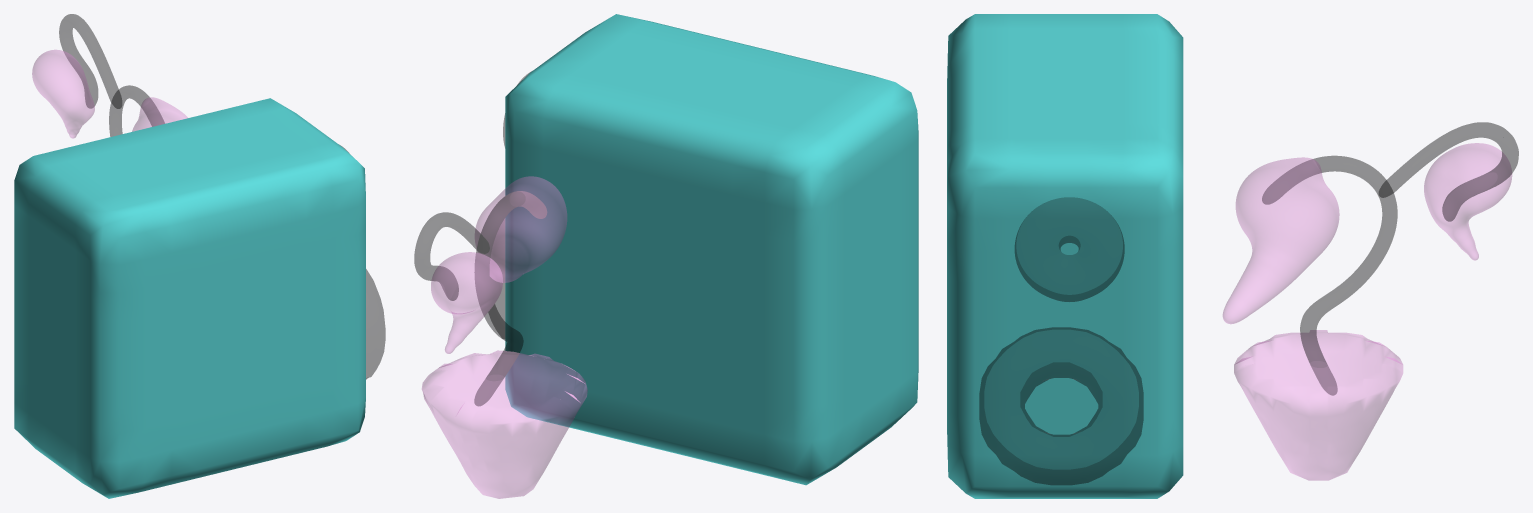
The model's file is 3Dtalleres.glb.
3 renders of one model, left to right at view 1: azimuth 30°, elevation 25°; view 2: azimuth 150°, elevation 25°; view 3: azimuth 270°, elevation 25°, orthographic. The views are drawn at different scales.
Parts seen in each view (by area): view 1: Area (2), Area (6), Area (4), donut, Area (3), Area (5); view 2: Area (2), Area (1), Area (5), Area (6), Area (3), Area (4), donut; view 3: Area (2), donut, Area (1), Area (5), donut (1), Area (6), Area (3), Area (4).
Boxes of the visible parts, x1,y1,x2,y2 form: Area (2): (14, 98, 365, 498); Area (6): (32, 50, 94, 138); Area (4): (59, 14, 121, 108); donut: (366, 269, 385, 379); Area (3): (109, 85, 164, 136); Area (5): (132, 97, 187, 131); Area (2): (505, 14, 918, 485); Area (1): (422, 350, 587, 498); Area (5): (475, 176, 566, 282); Area (6): (431, 252, 502, 353); Area (3): (474, 191, 546, 405); Area (4): (414, 212, 489, 300); donut: (488, 219, 504, 338); Area (2): (947, 14, 1183, 498); donut: (979, 327, 1143, 484); Area (1): (1234, 330, 1402, 480); Area (5): (1223, 157, 1339, 323); donut (1): (1015, 197, 1124, 301); Area (6): (1424, 143, 1511, 260); Area (3): (1262, 156, 1397, 395); Area (4): (1379, 122, 1518, 221).
Size of the model in its own units: 181 by 164 by 245.
8 materials, 8 textured.
